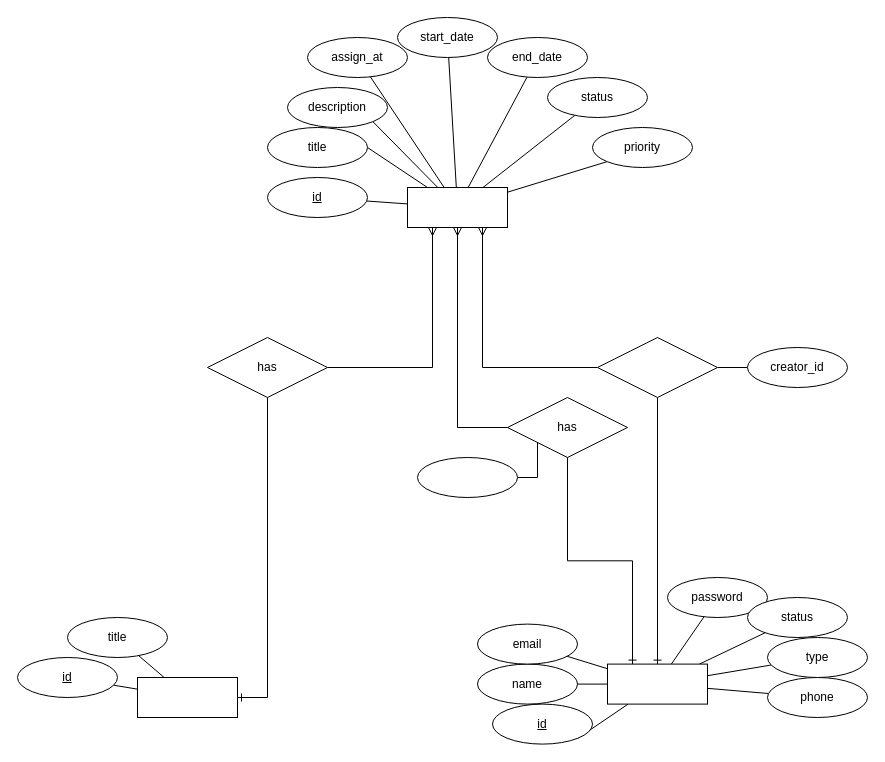
This 885x762 diagram has some shape labels left out. The box of each missing label's shape, as (x1, y1, x2, y2) in pixels:
administrate: (596, 336, 718, 398)
assign_id: (416, 456, 518, 498)
category: (136, 676, 238, 718)
task: (406, 186, 508, 228)
user: (606, 663, 708, 704)
